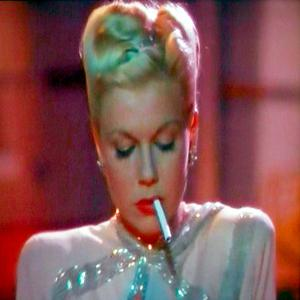cigarette: (155, 198, 173, 242)
